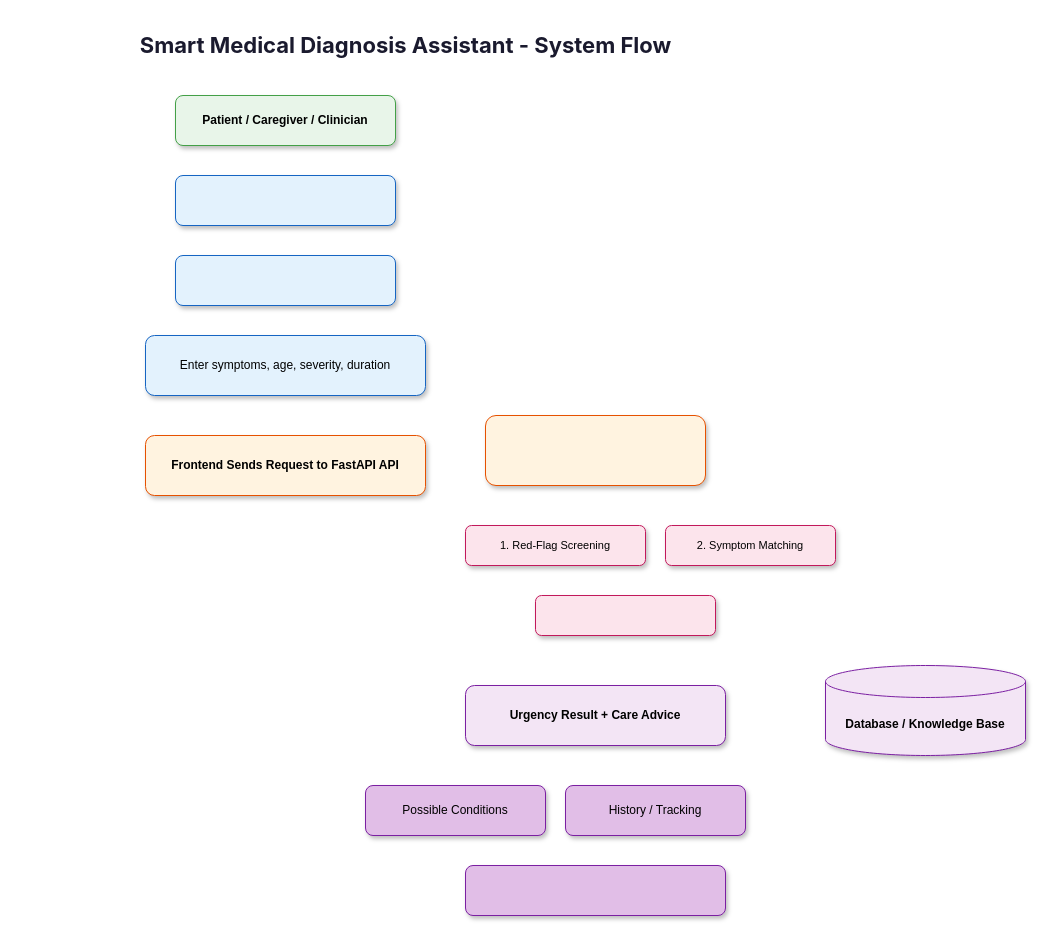
Some shapes in this 1049 by 940 pixel diagram are drawn without their labels. The shapes that lost their labels are listed below. From the top down, each one's centre as x and y in pixels, then its label:
[286,201]: Login / Authentication
[286,281]: Symptom Intake Form
[596,451]: Triage Engine
[626,616]: 3. Condition Scoring
[596,891]: Clinician Summary / Share
